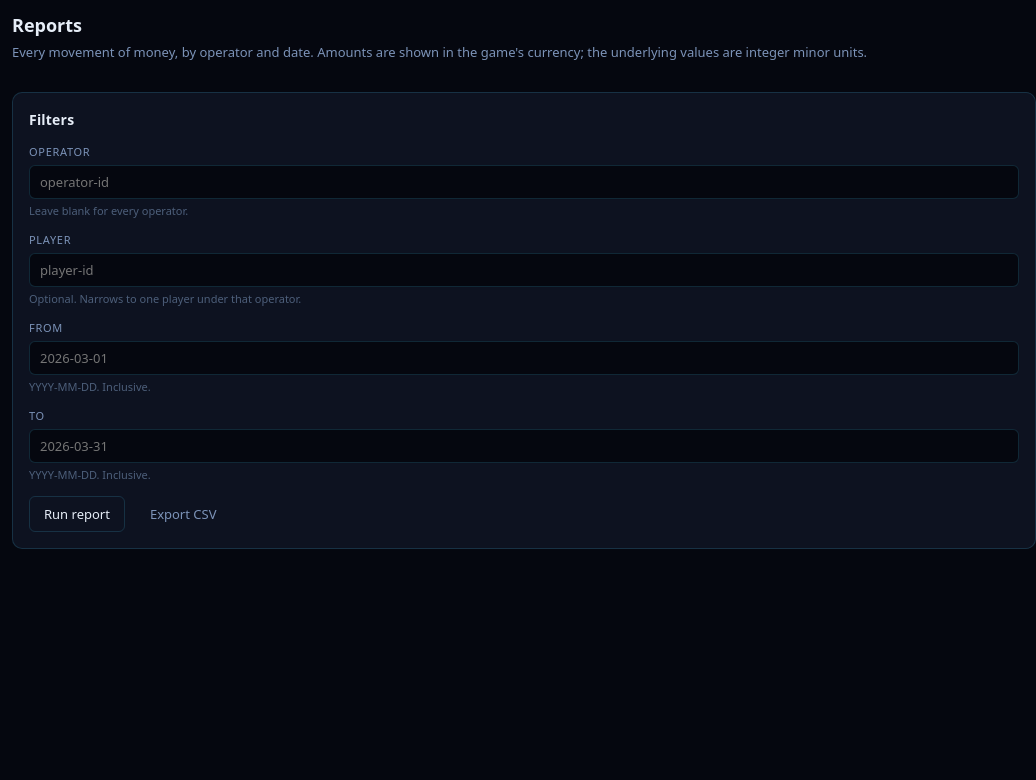
Scenario: running a report › shows the totals alongside the rows
This screenshot has width=1036, height=780.
Click the button "Run report": (77, 514) [29,496,125,532]
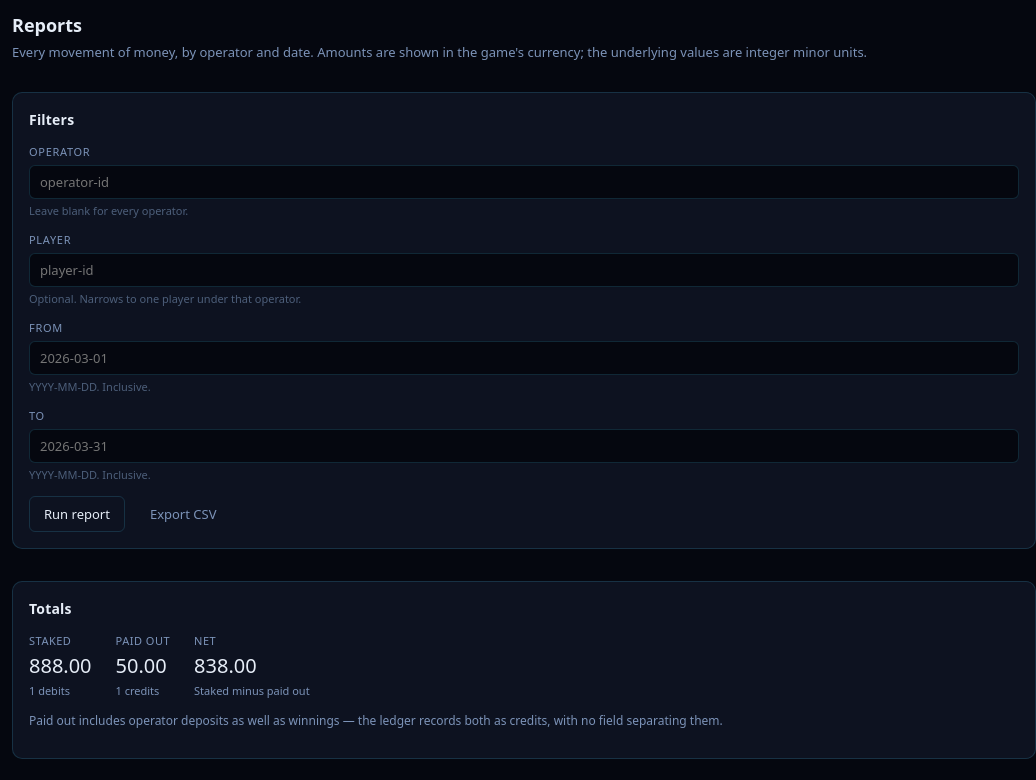
Now the text "Staked" is shown, box [29,632,71,648]
Now the text "888.00" is shown, box [29,651,92,681]
Now the text "50.00" is shown, box [116,651,170,681]
